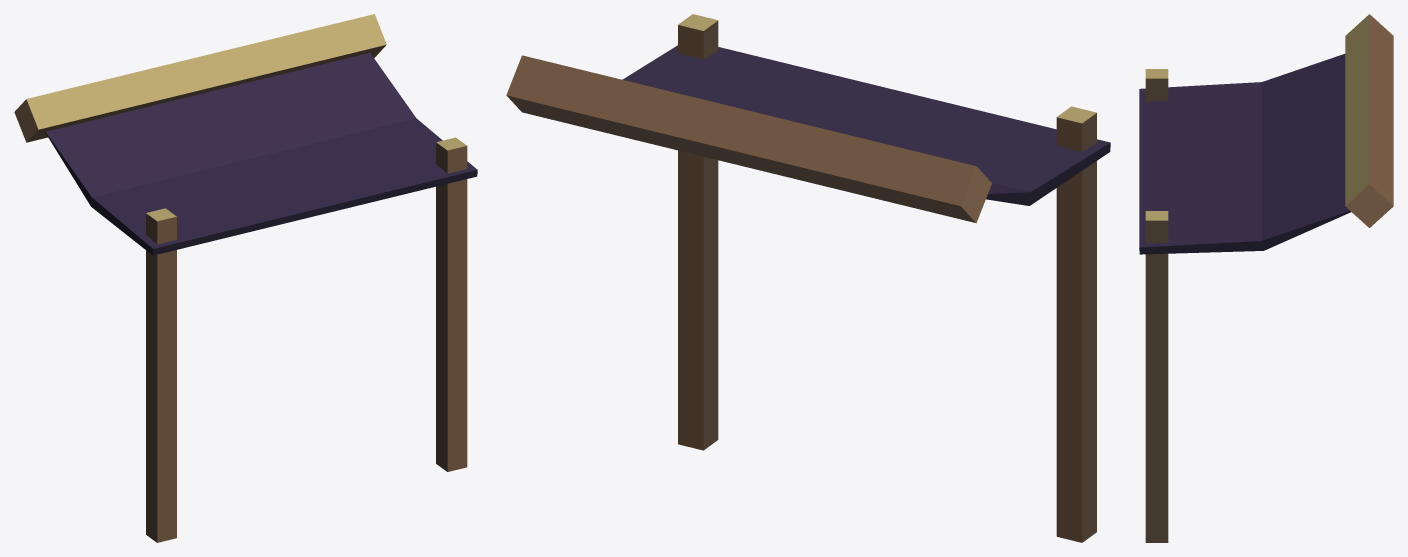
File: TB_D_Bd_Canopy_WLeg_F.FBX
3 renders of one model, left to right at view 1: azimuth 30°, elevation 25°; view 2: azimuth 150°, elevation 25°; view 3: azimuth 270°, elevation 25°, orthographic. The views are drawn at different scales.
Parts seen in each view (by area): view 1: TB_D_Bd_Canopy_WLeg_F; view 2: TB_D_Bd_Canopy_WLeg_F; view 3: TB_D_Bd_Canopy_WLeg_F.
Boxes of the visible parts, x1,y1,x2,y2 form: TB_D_Bd_Canopy_WLeg_F: (14,14,477,542); TB_D_Bd_Canopy_WLeg_F: (506,14,1110,542); TB_D_Bd_Canopy_WLeg_F: (1139,14,1393,542).
Size of the model in its own units: 2.5 by 2.52 by 1.58.
